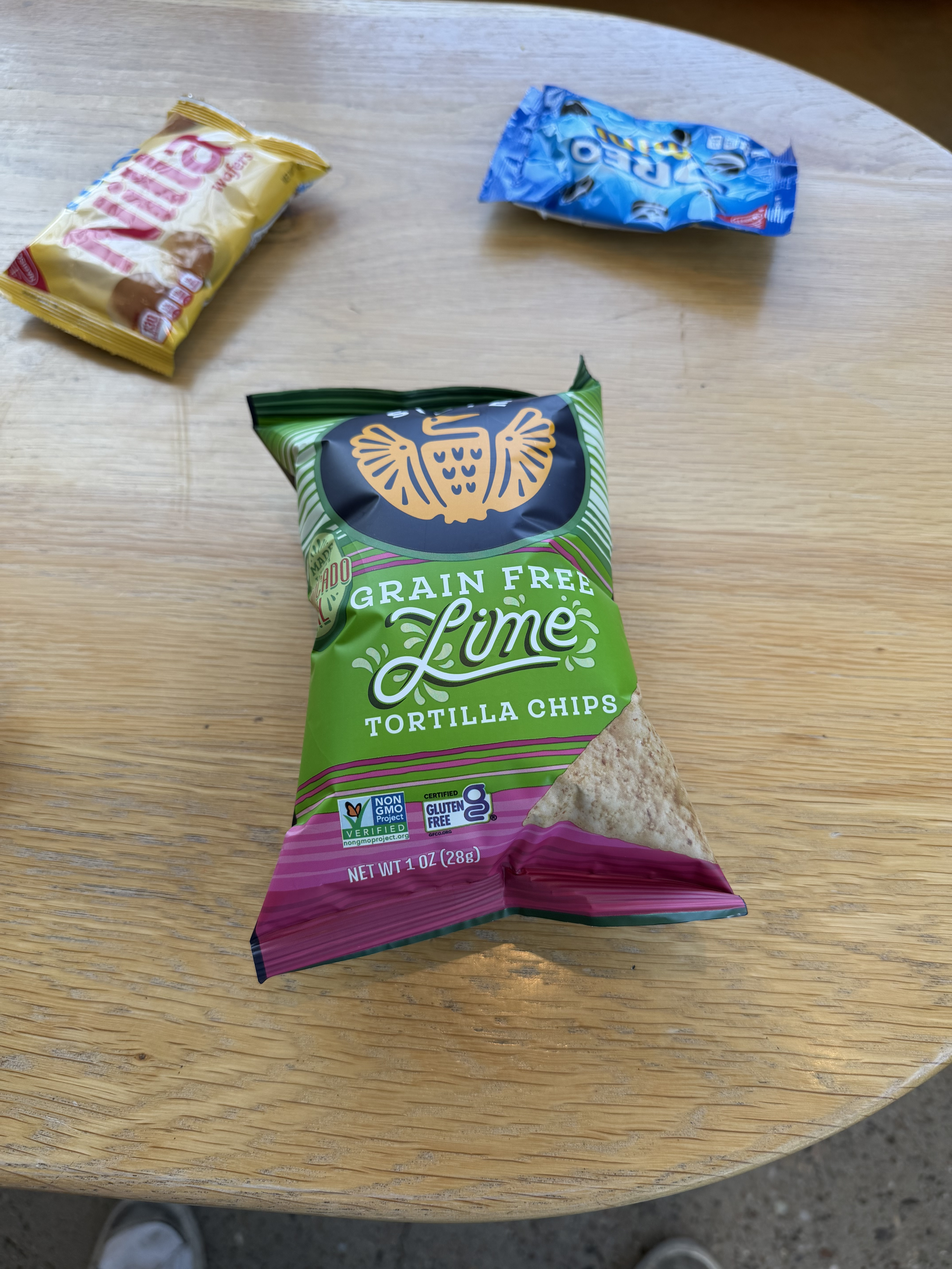lime: (242, 383, 738, 985)
nilla: (17, 102, 320, 376)
oreo_mini: (485, 71, 801, 266)
